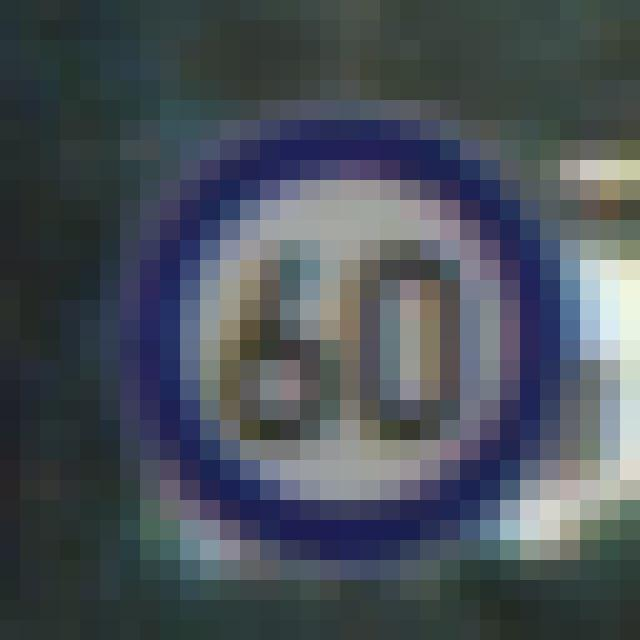SPEED-LIMIT-60: (96, 82, 591, 581)
